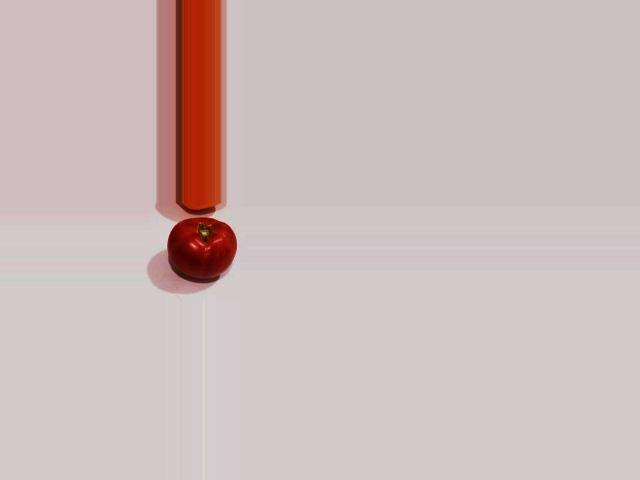tomato: (168, 218, 237, 278)
